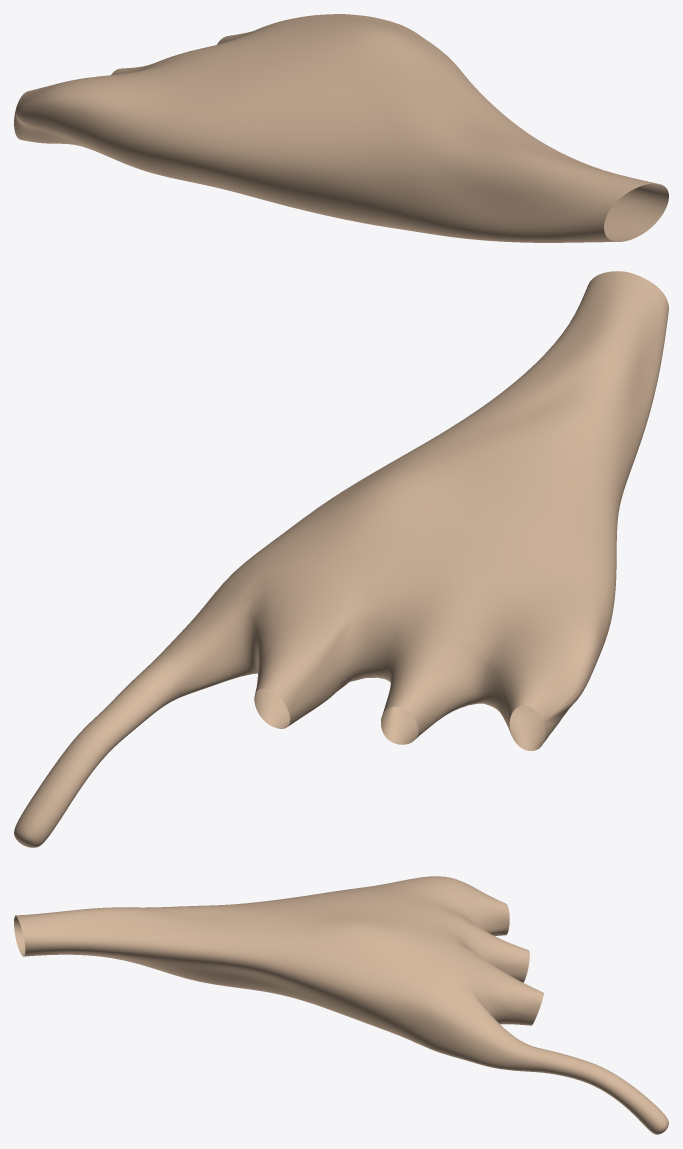
The picture shows the model from 3 angles, top to bottom: view 1: azimuth 30°, elevation 25°; view 2: azimuth 150°, elevation 25°; view 3: azimuth 270°, elevation 25°; orthographic projection. The views are drawn at different scales.
Visible parts, largest first — view 1: 右侧屈肌总腱鞘; view 2: 右侧屈肌总腱鞘; view 3: 右侧屈肌总腱鞘.
Boxes of the visible parts, bbox=[...] form: 右侧屈肌总腱鞘: bbox=[14, 14, 668, 242]; 右侧屈肌总腱鞘: bbox=[14, 271, 668, 847]; 右侧屈肌总腱鞘: bbox=[14, 876, 668, 1134].
Bounding box in the file's own units: 0.0906 × 0.0524 × 0.1786.
